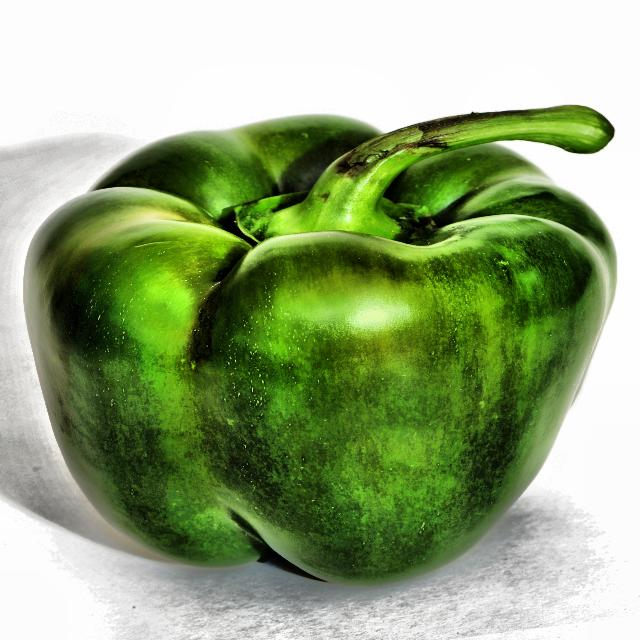capsicum: (17, 81, 626, 594)
